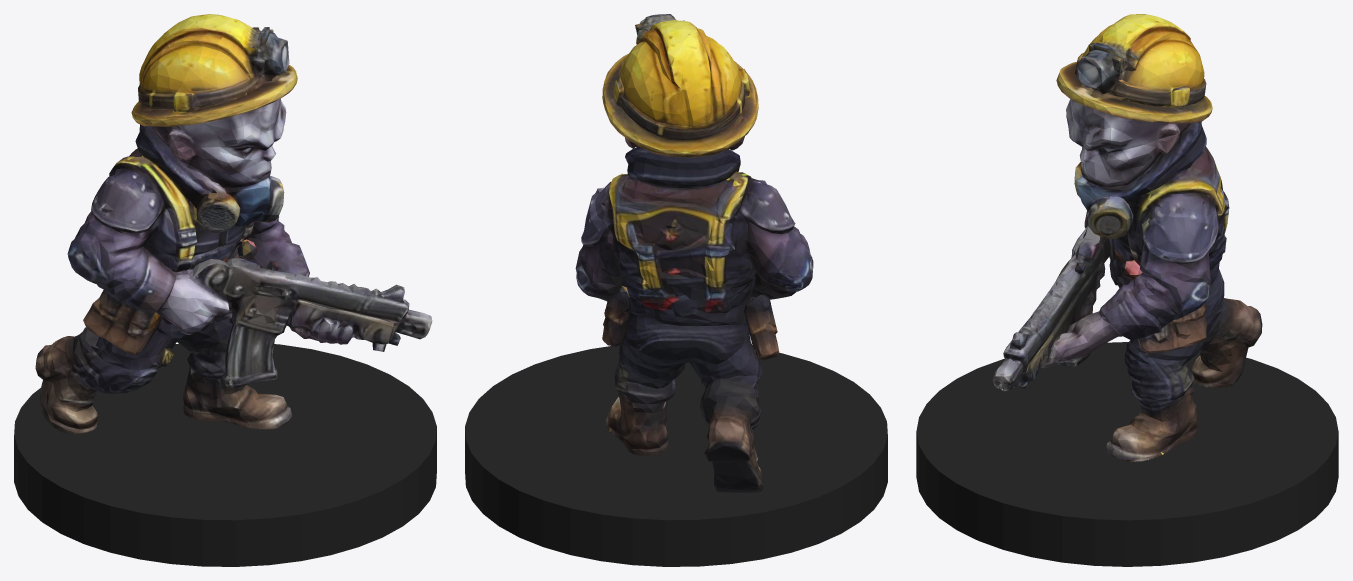
Rendered from wb-neophyte-warrior-c.glb.
3 renders of one model, left to right at view 1: azimuth 30°, elevation 25°; view 2: azimuth 150°, elevation 25°; view 3: azimuth 270°, elevation 25°, orthographic.
Parts seen in each view (by area): view 1: figure, base; view 2: figure, base; view 3: base, figure.
Boxes of the visible parts, box(x1,y1,x2,y2) form: figure: box(35, 14, 432, 433); base: box(14, 343, 436, 566); figure: box(575, 14, 813, 492); base: box(465, 345, 887, 566); base: box(916, 342, 1338, 566); figure: box(992, 14, 1262, 461).
Bounding box in the file's own units: 0.9843 × 1.17 × 0.9843.
Materials: 2 (1 with a texture image).
